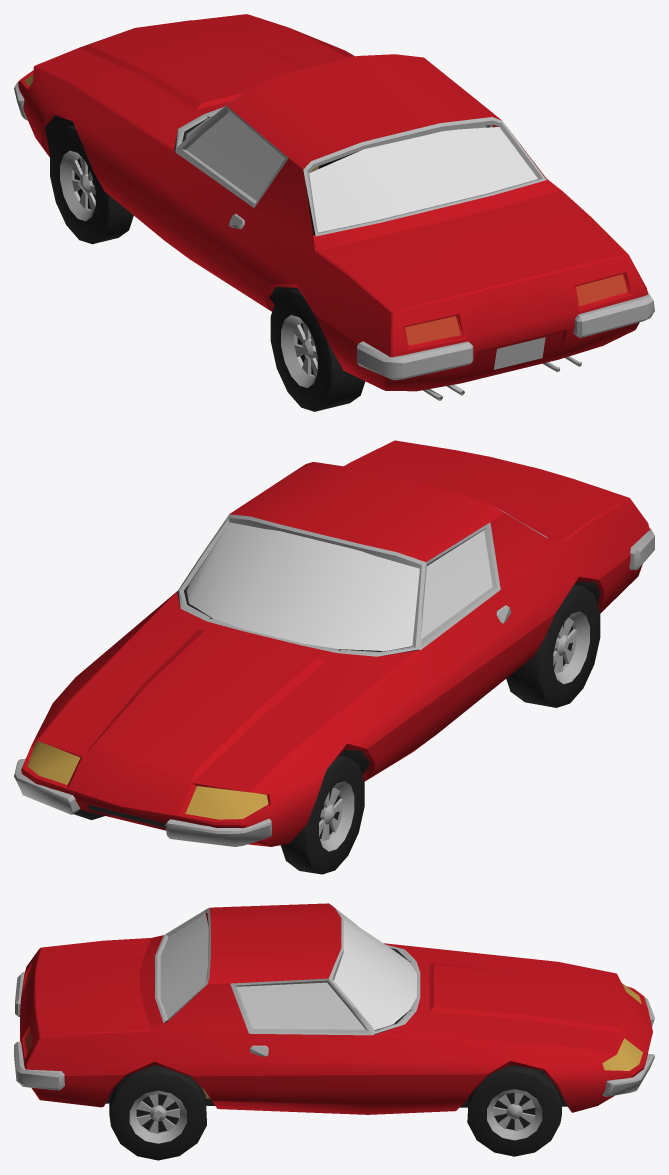
The model's file is sports-car.car-v2.lod1.glb.
3 views of the same model, one above another, from view 1: azimuth 30°, elevation 25°; view 2: azimuth 150°, elevation 25°; view 3: azimuth 270°, elevation 25° (orthographic). The views are drawn at different scales.
Visible parts, largest first — view 1: CarBody_body_0, CarBody_metal_0; view 2: CarBody_body_0, CarBody_metal_0; view 3: CarBody_body_0, CarBody_metal_0.
Part boxes in pixels (left/top/right/bottom): CarBody_body_0: left=18, top=14, right=647, bottom=411; CarBody_metal_0: left=14, top=55, right=654, bottom=400; CarBody_body_0: left=21, top=440, right=649, bottom=874; CarBody_metal_0: left=14, top=508, right=654, bottom=851; CarBody_body_0: left=20, top=903, right=652, bottom=1160; CarBody_metal_0: left=14, top=904, right=654, bottom=1143.
Bounding box in the file's own units: 1.79 × 1.36 × 4.5.
